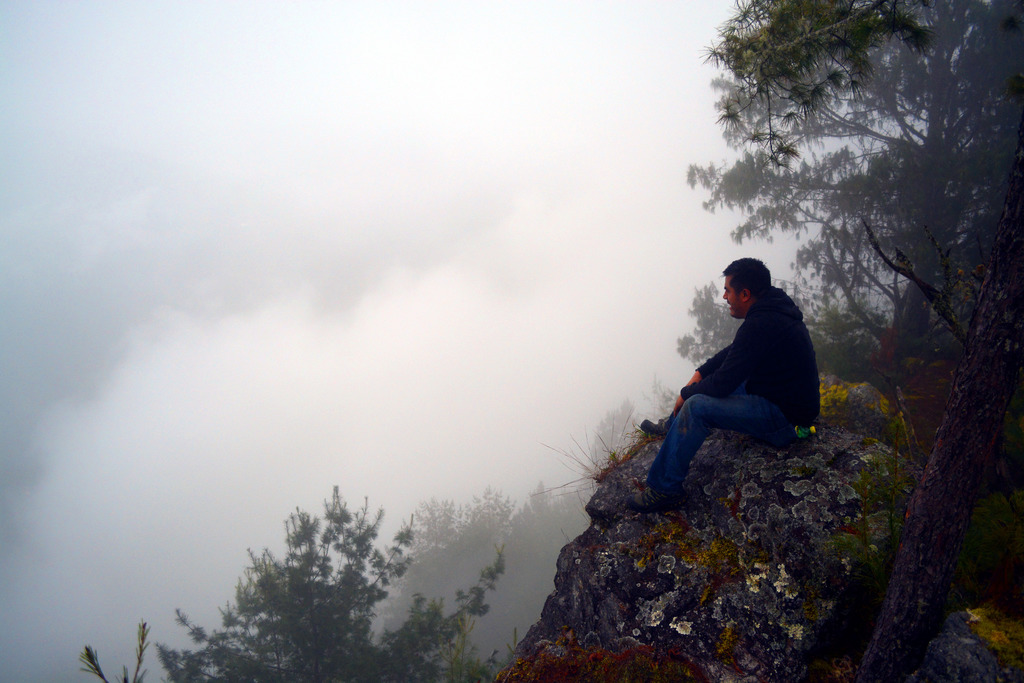Footwear: (624, 490, 684, 513), (640, 420, 670, 438)
